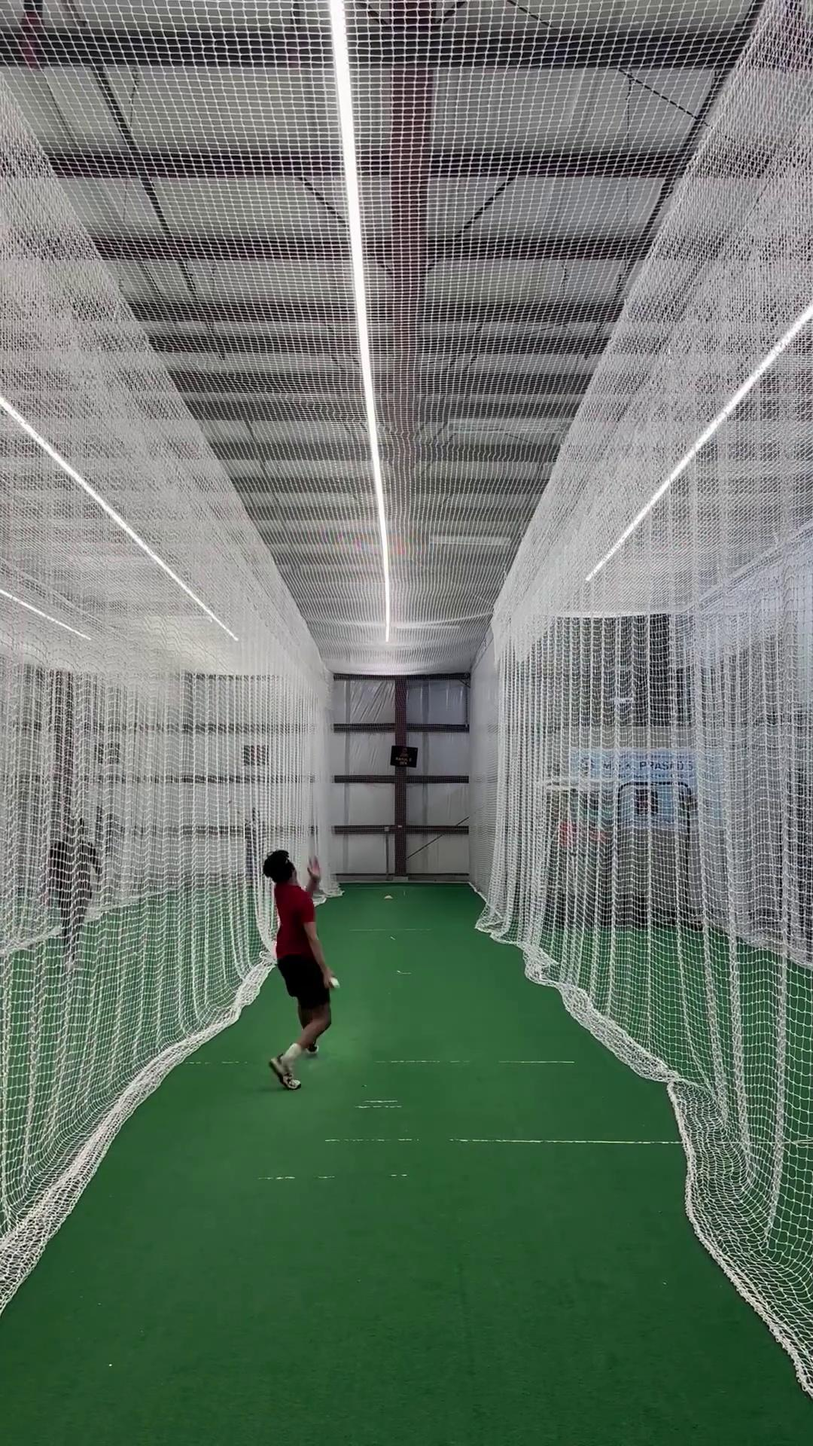ball: (323, 972, 344, 995)
